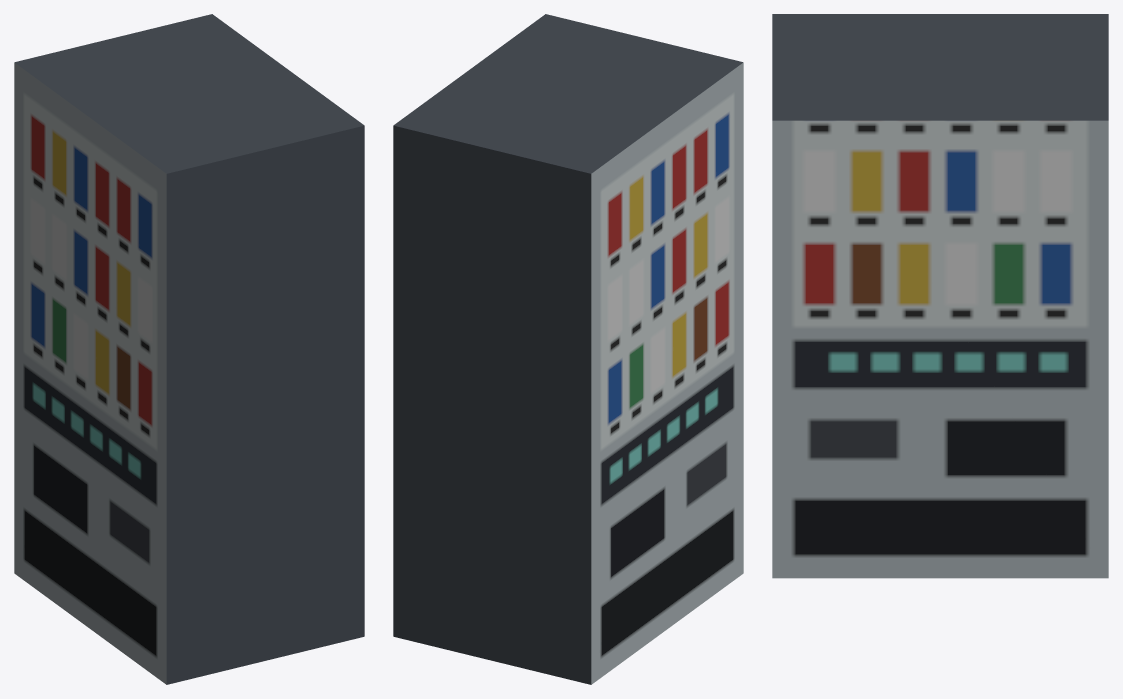
The model's file is street_vending.glb.
The picture shows the model from 3 angles, left to right: view 1: azimuth 30°, elevation 25°; view 2: azimuth 150°, elevation 25°; view 3: azimuth 270°, elevation 25°; orthographic projection. The views are drawn at different scales.
Parts seen in each view (by area): view 1: street_vending; view 2: street_vending; view 3: street_vending.
Boxes of the visible parts, <box> form: street_vending: <box>14,14,364,684</box>; street_vending: <box>393,14,743,684</box>; street_vending: <box>772,14,1108,578</box>.
Size of the model in its own units: 0.75 by 1.85 by 1.
2 materials, 2 textured.
